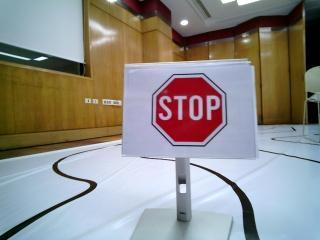stop: (136, 68, 238, 151)
